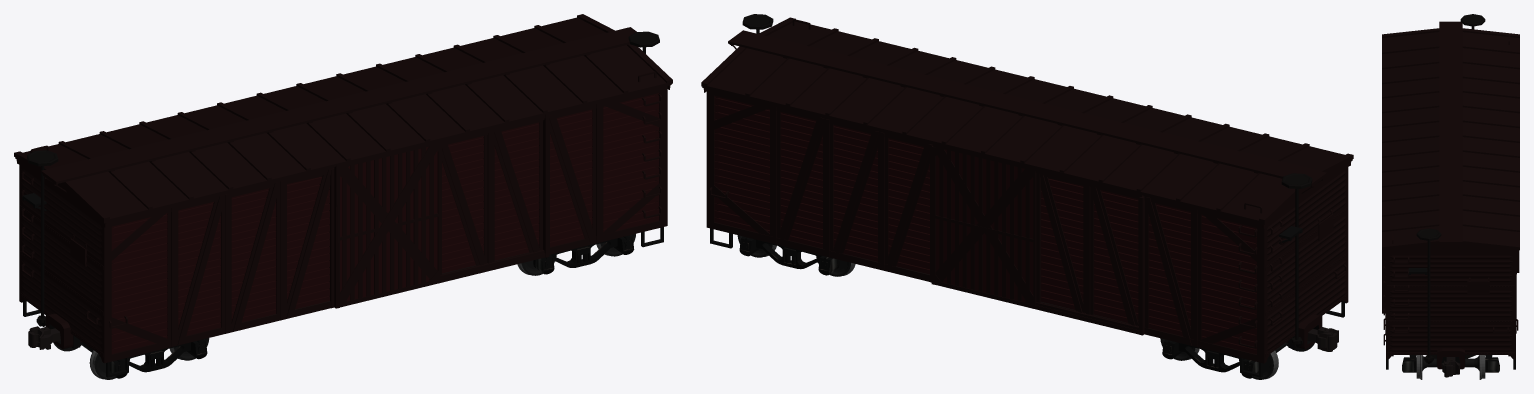
The model's file is boxcar_x26.obj.
3 renders of one model, left to right at view 1: azimuth 30°, elevation 25°; view 2: azimuth 150°, elevation 25°; view 3: azimuth 270°, elevation 25°, orthographic. The views are drawn at different scales.
Visible parts, largest first — view 1: BOXCAR_Cube.026, DOOR_LEFT_Cube.006, BOGEY_FRONT_Cube.007, BOGEY_BACK_Cube.024; view 2: BOXCAR_Cube.026, DOOR_RIGHT_Cube.002, BOGEY_FRONT_Cube.007, BOGEY_BACK_Cube.024; view 3: BOXCAR_Cube.026, BOGEY_BACK_Cube.024, BACK_COUPLER_Cube.010.
Part boxes in pixels (x1=…): BOXCAR_Cube.026: x1=14, y1=14, x2=672, y2=377; DOOR_LEFT_Cube.006: x1=340, y1=144, x2=439, y2=303; BOGEY_FRONT_Cube.007: x1=53, y1=338, x2=209, y2=379; BOGEY_BACK_Cube.024: x1=517, y1=234, x2=635, y2=275; BOXCAR_Cube.026: x1=701, y1=14, x2=1353, y2=377; DOOR_RIGHT_Cube.002: x1=933, y1=146, x2=1036, y2=304; BOGEY_FRONT_Cube.007: x1=1160, y1=338, x2=1314, y2=379; BOGEY_BACK_Cube.024: x1=737, y1=235, x2=855, y2=276; BOXCAR_Cube.026: x1=1382, y1=14, x2=1519, y2=369; BOGEY_BACK_Cube.024: x1=1402, y1=355, x2=1499, y2=379; BACK_COUPLER_Cube.010: x1=1442, y1=357, x2=1459, y2=377.
Size of the model in its own units: 12.86 by 4.05 by 3.21.
